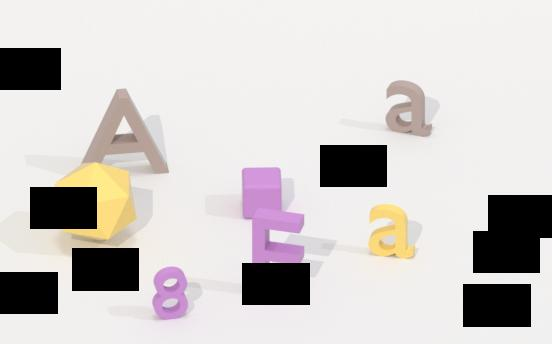8: (151, 266, 193, 322)
A-hoa: (76, 84, 172, 180)
F: (247, 204, 310, 300)
a: (384, 75, 435, 142), (367, 203, 418, 262)
dagiac: (50, 162, 141, 248)
hop: (239, 163, 286, 224)
